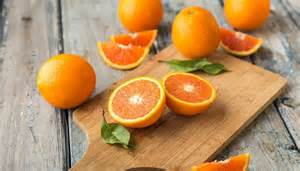orange: (33, 50, 99, 112), (169, 6, 224, 61)
